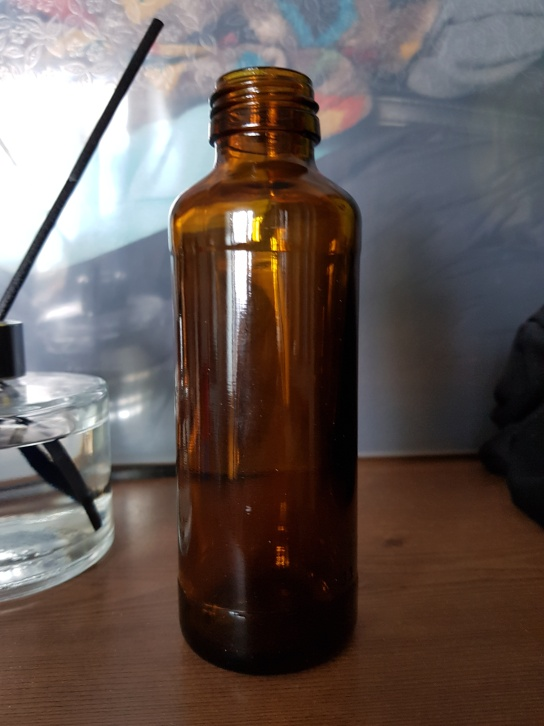Glass: (164, 65, 366, 679)
